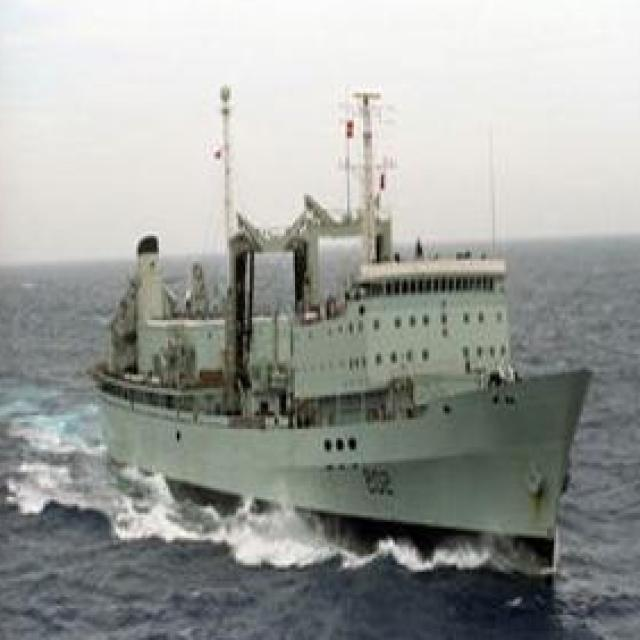navalvessels: (50, 85, 620, 554)
